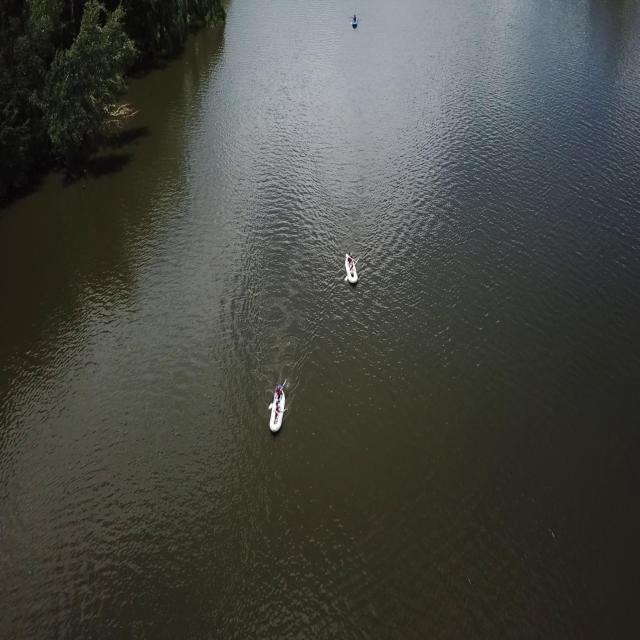kayak: (267, 384, 288, 438), (342, 249, 361, 291), (351, 13, 360, 29)
